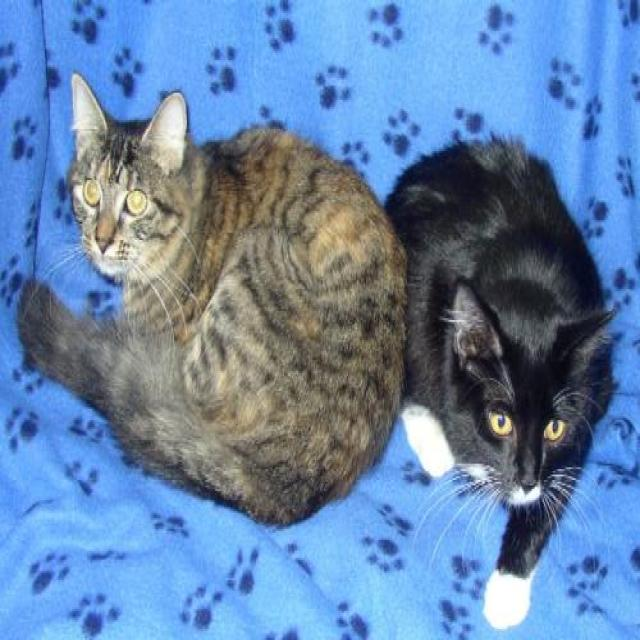Cats: (16, 69, 408, 527), (383, 129, 617, 629)
